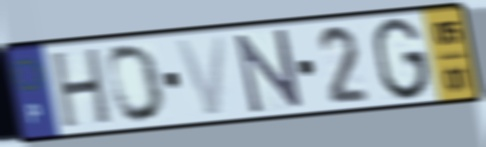2: (316, 23, 372, 106)
G: (371, 15, 432, 104)
H: (50, 44, 114, 132)
N: (232, 26, 306, 117)
O: (105, 41, 168, 126)
V: (172, 32, 229, 119)
